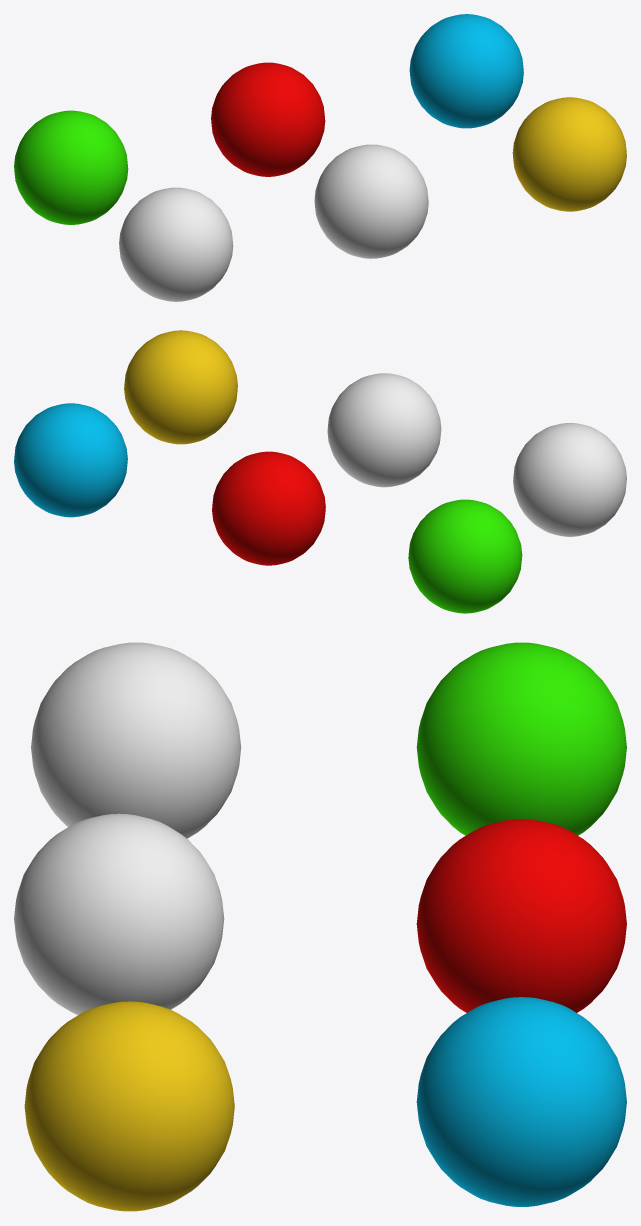
The model's file is pbr.glb.
The picture shows the model from 3 angles, top to bottom: view 1: azimuth 30°, elevation 25°; view 2: azimuth 150°, elevation 25°; view 3: azimuth 270°, elevation 25°; orthographic projection. The views are drawn at different scales.
Visible parts, largest first — view 1: Sphere.005, Sphere, Sphere.002, Sphere.001, Sphere.004, Sphere.003; view 2: Sphere.002, Sphere, Sphere.003, Sphere.004, Sphere.001, Sphere.005; view 3: Sphere, Sphere.005, Sphere.002, Sphere.004, Sphere.003, Sphere.001.
Part boxes in pixels (bbox=[...]): Sphere.005: bbox=[409, 14, 523, 128]; Sphere: bbox=[512, 97, 626, 211]; Sphere.002: bbox=[314, 144, 428, 258]; Sphere.001: bbox=[119, 187, 233, 301]; Sphere.004: bbox=[211, 62, 325, 176]; Sphere.003: bbox=[14, 110, 128, 224]; Sphere.002: bbox=[327, 373, 441, 487]; Sphere: bbox=[124, 330, 237, 444]; Sphere.003: bbox=[408, 499, 522, 613]; Sphere.004: bbox=[212, 451, 325, 565]; Sphere.001: bbox=[513, 423, 626, 536]; Sphere.005: bbox=[14, 403, 127, 517]; Sphere: bbox=[24, 1001, 234, 1211]; Sphere.005: bbox=[416, 997, 626, 1206]; Sphere.002: bbox=[14, 813, 224, 1015]; Sphere.004: bbox=[416, 819, 626, 1012]; Sphere.003: bbox=[416, 642, 626, 835]; Sphere.001: bbox=[31, 642, 241, 838].
Bounding box in the file's own units: 4.99 × 1.04 × 2.92.
